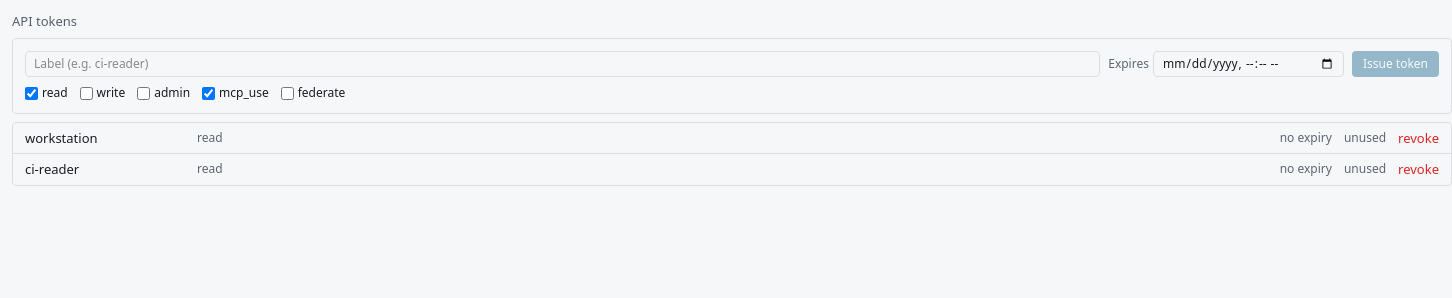
issuing a token sends the ticked scopes and reveals the secret once
Check: the text "workstation" is shown, box [25,129,98,147]
Check: the button "Issue token" is disabled, box [1352,51,1439,77]
Type "ci-writer" into the field with placeholder "Label (e.g. ci-reader)" at [563, 64], box [25,51,1100,77]
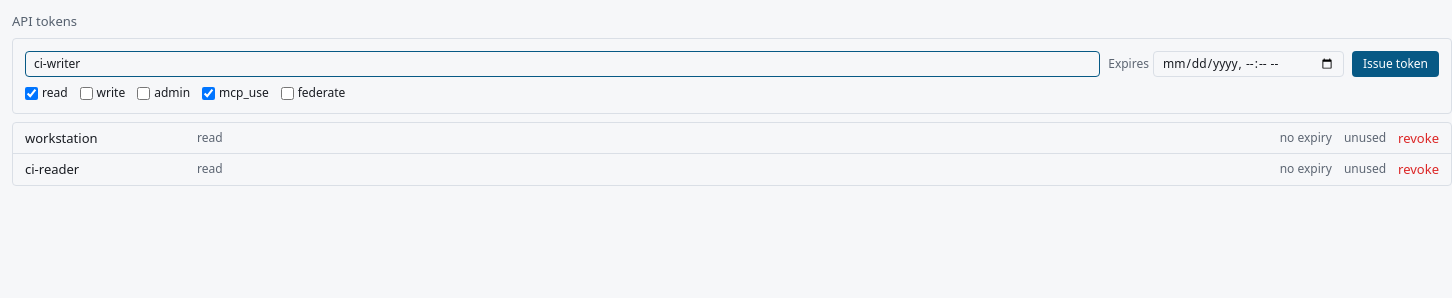
Click the checkbox labelled "write" at [86, 93], box [80,87,93,100]
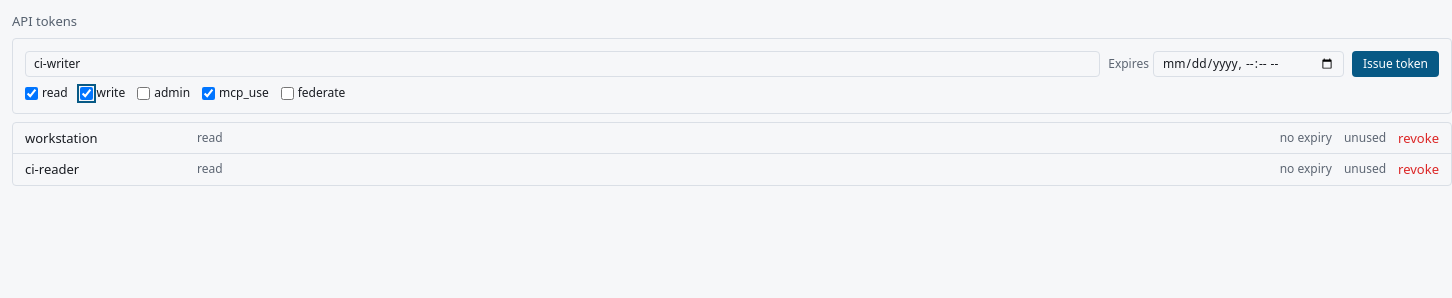
Click the button "Issue token" at [1395, 64], box [1352,51,1439,77]
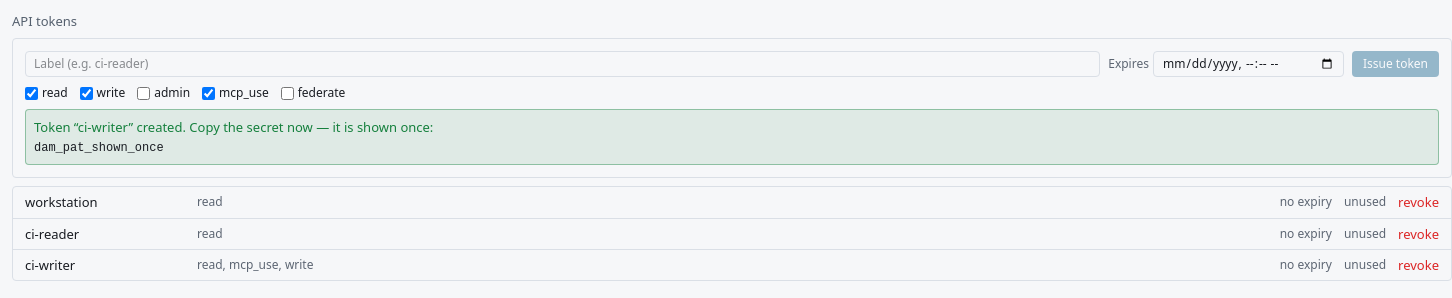
Check: the text "dam_pat_shown_once" is shown, box [34,141,164,155]
Check: the field with placeholder "Label (e.g. ci-reader)" is empty, box [25,51,1100,77]
